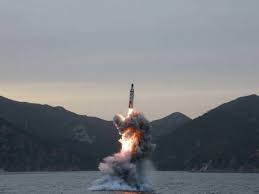ten_lua: (122, 80, 138, 125)
